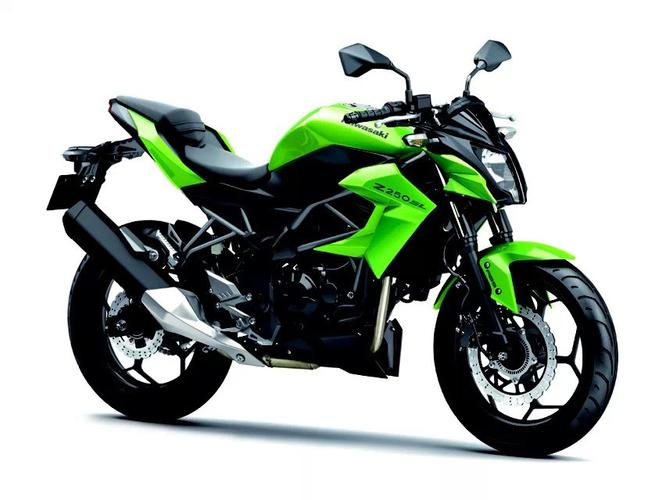摩托车: (31, 5, 628, 467)
